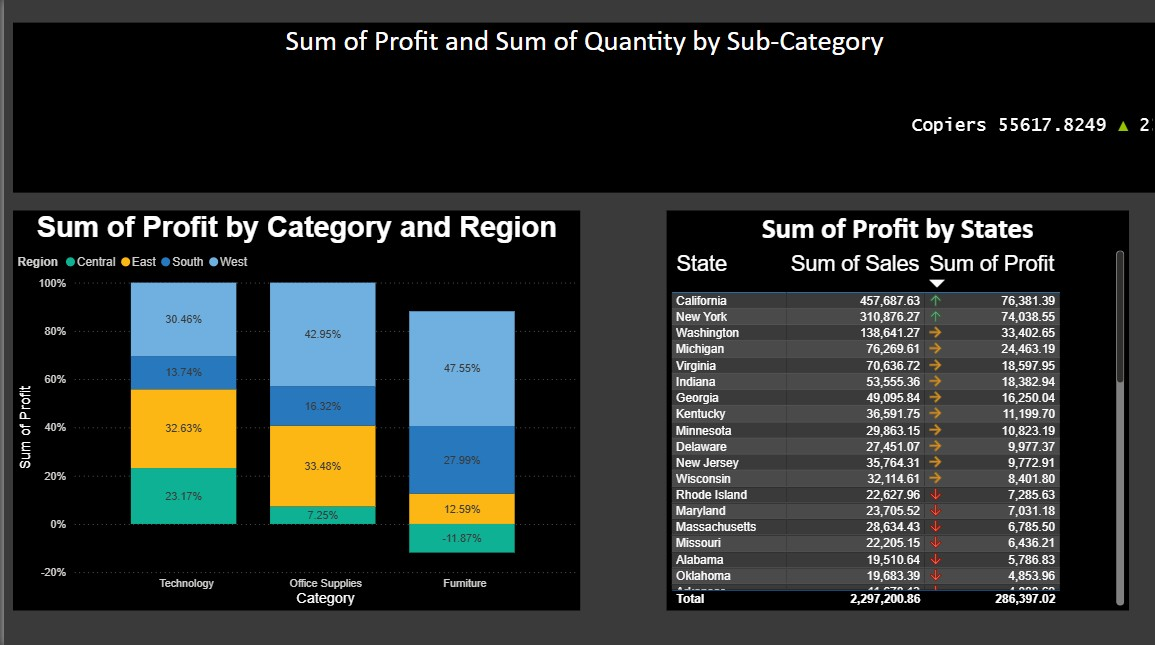

Layout of this report page (visuals, bound fields, positions):
{"tool":"powerbi","page":{"name":"Profit","canvas":[1280,720],"ordinal":3},"visuals":[{"type":"ScrollingTextVisual1448795304508","fields":{"Measure Absolute":["Sum(Sample - Superstore.Profit)"],"Category":["Sample - Superstore.Sub-Category"],"Measure Deviation":["Sum(Sample - Superstore.Quantity)"]},"box":[10,26,1270,188],"z":0},{"type":"hundredPercentStackedColumnChart","fields":{"Category":["Sample - Superstore.Category"],"Y":["Sum(Sample - Superstore.Profit)"],"Series":["Sample - Superstore.Region"]},"box":[10.1,235.2,630.5,444.4],"z":1000},{"type":"tableEx","title":"Sum of Profit by States","fields":{"Values":["Sample - Superstore.State","Sum(Sample - Superstore.Sales)","Sum(Sample - Superstore.Profit)"]},"box":[735.8,235.2,513.6,444.4],"z":2000}]}

Visuals, with their boxes in screenshot pixels (x1, y1, x2, y2), scaled from the page's 1280x720 canvas onto the 1155x645 screenshot:
ScrollingTextVisual1448795304508 - Sum(Sample - Superstore.Profit) x Sample - Superstore.Sub-Category: pyautogui.locateOnScreen(9, 23, 1154, 192)
hundredPercentStackedColumnChart - Sample - Superstore.Category x Sum(Sample - Superstore.Profit): pyautogui.locateOnScreen(9, 211, 578, 609)
"Sum of Profit by States" tableEx: pyautogui.locateOnScreen(664, 211, 1127, 609)
